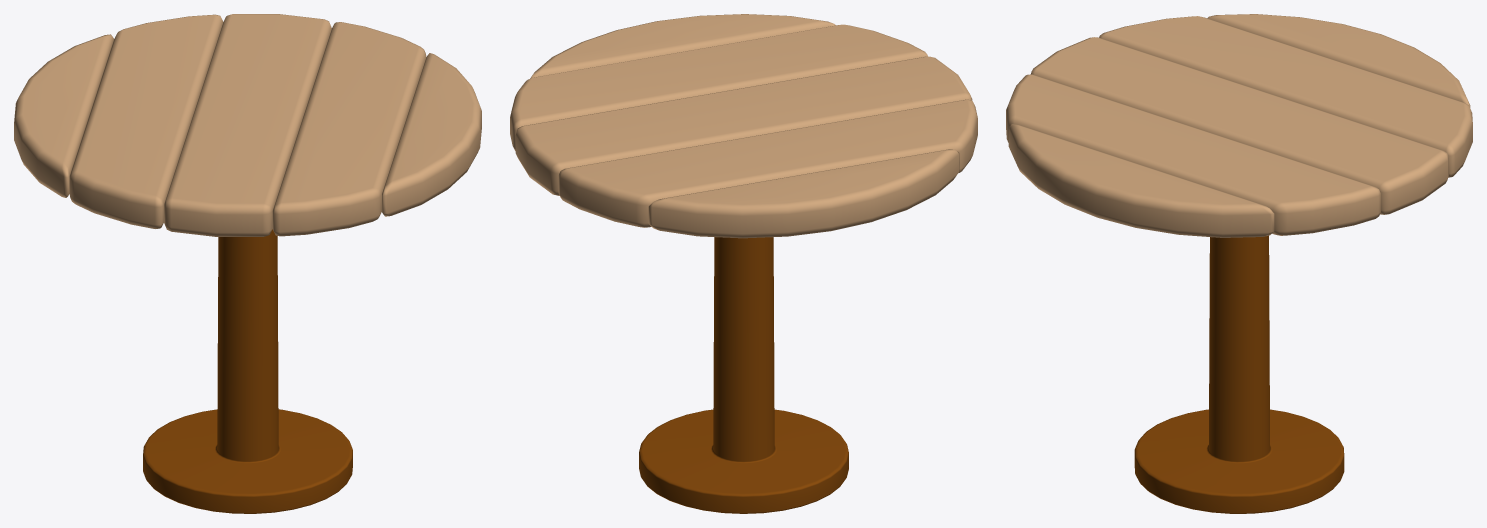
The model's file is SM_table.glb.
3 renders of one model, left to right at view 1: azimuth 30°, elevation 25°; view 2: azimuth 150°, elevation 25°; view 3: azimuth 270°, elevation 25°, orthographic.
Parts seen in each view (by area): view 1: SM_table; view 2: SM_table; view 3: SM_table.
Part boxes in pixels (x1,y1,x2,y2): SM_table: [14, 14, 481, 513]; SM_table: [510, 14, 977, 513]; SM_table: [1006, 14, 1472, 513].
Size of the model in its own units: 1.08 by 0.9186 by 1.08.
1 material, 1 textured.
